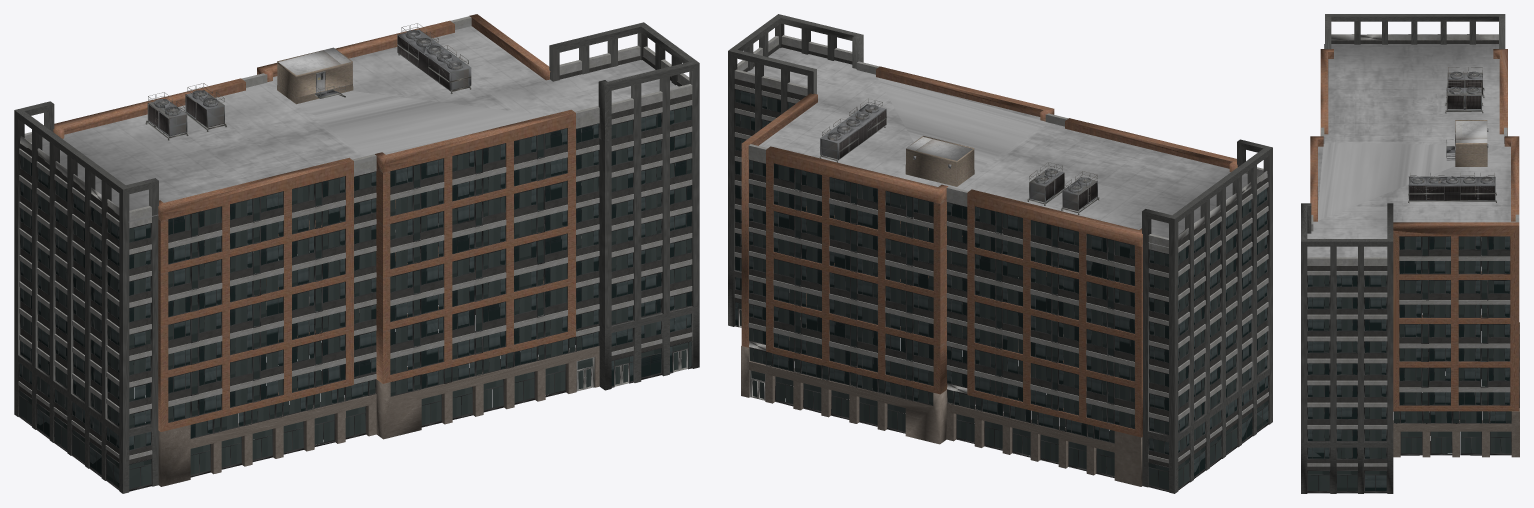
Rendered from mid-1.glb.
3 views of the same model, side by side, from view 1: azimuth 30°, elevation 25°; view 2: azimuth 150°, elevation 25°; view 3: azimuth 270°, elevation 25° (orthographic). The views are drawn at different scales.
Parts seen in each view (by area): view 1: Mid_Rise_Building_1; view 2: Mid_Rise_Building_1; view 3: Mid_Rise_Building_1.
Boxes of the visible parts, left/top/right/bottom form: Mid_Rise_Building_1: left=14, top=14, right=699, bottom=493; Mid_Rise_Building_1: left=728, top=14, right=1272, bottom=493; Mid_Rise_Building_1: left=1301, top=14, right=1519, bottom=493.
Bounding box in the file's own units: 62.51 × 32.34 × 25.41.
Materials: 3 (3 with a texture image).
